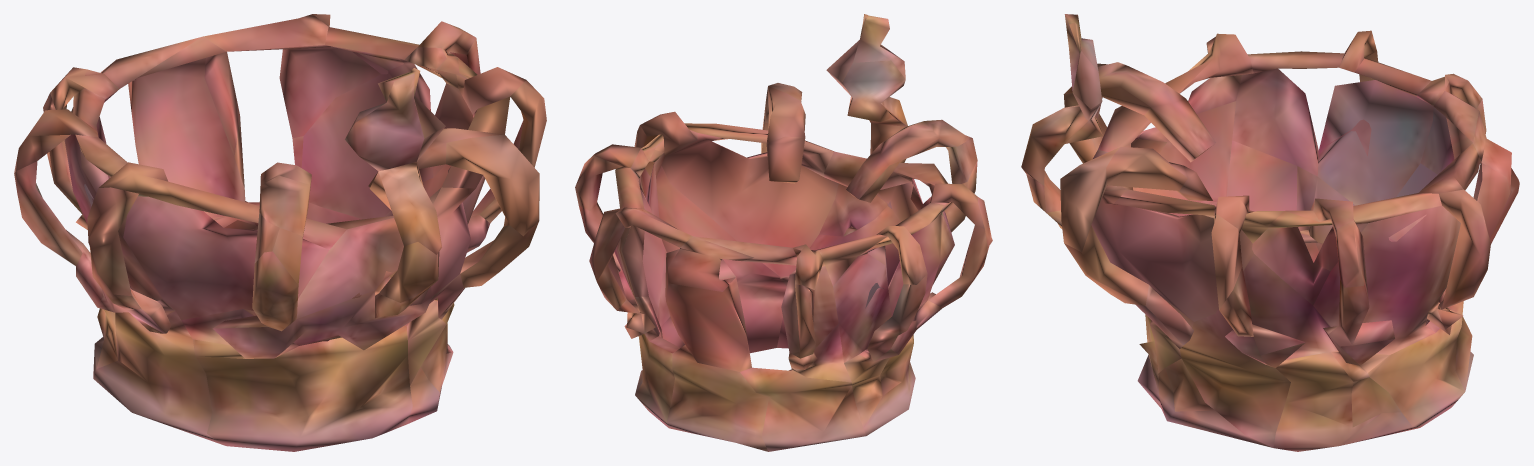
The picture shows the model from 3 angles, left to right: view 1: azimuth 30°, elevation 25°; view 2: azimuth 150°, elevation 25°; view 3: azimuth 270°, elevation 25°; orthographic projection. The views are drawn at different scales.
Parts seen in each view (by area): view 1: Pink-Crown-12; view 2: Pink-Crown-12; view 3: Pink-Crown-12.
Boxes of the visible parts, bbox=[...] form: Pink-Crown-12: bbox=[14, 14, 546, 451]; Pink-Crown-12: bbox=[575, 14, 992, 451]; Pink-Crown-12: bbox=[1021, 14, 1519, 451].
Size of the model in its own units: 0.2811 by 0.2315 by 0.2837.
1 material, 1 textured.
